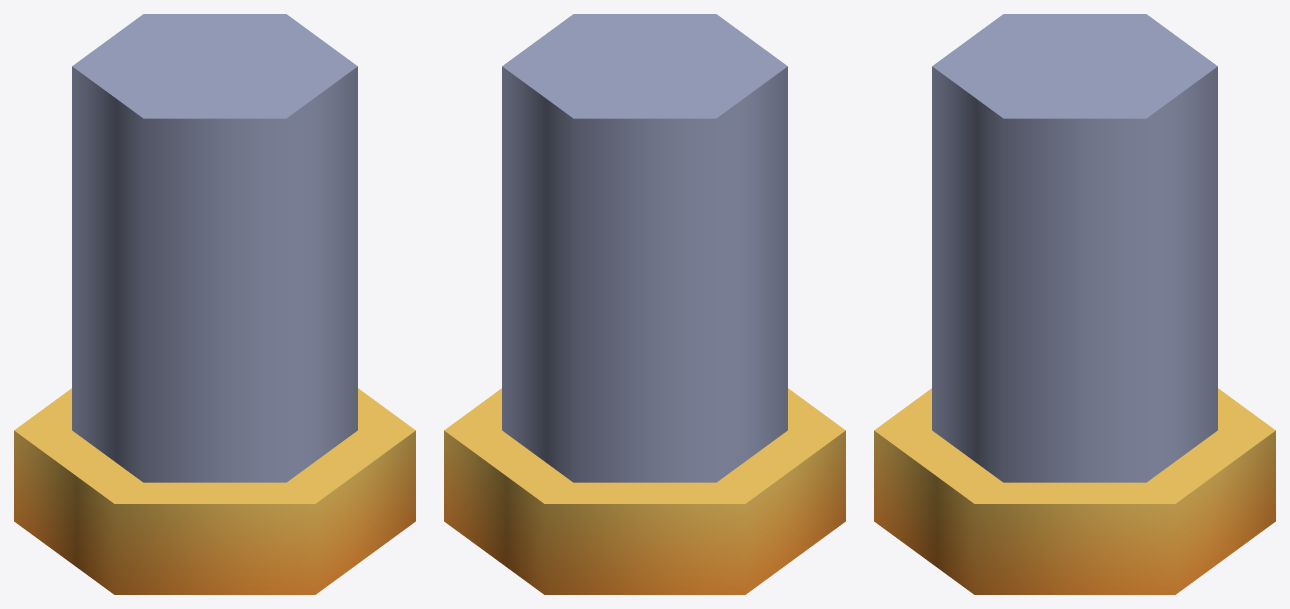
Rendered from scifi-pipe-end-colored.fbx.
3 renders of one model, left to right at view 1: azimuth 30°, elevation 25°; view 2: azimuth 150°, elevation 25°; view 3: azimuth 270°, elevation 25°, orthographic.
Visible parts, largest first — view 1: scifi-pipe-end-colored; view 2: scifi-pipe-end-colored; view 3: scifi-pipe-end-colored.
Part boxes in pixels (box(x1,y1,x2,y2)): scifi-pipe-end-colored: box(14, 14, 415, 594); scifi-pipe-end-colored: box(444, 14, 845, 594); scifi-pipe-end-colored: box(874, 14, 1275, 594).
Bounding box in the file's own units: 0.3464 × 0.4 × 0.5.
